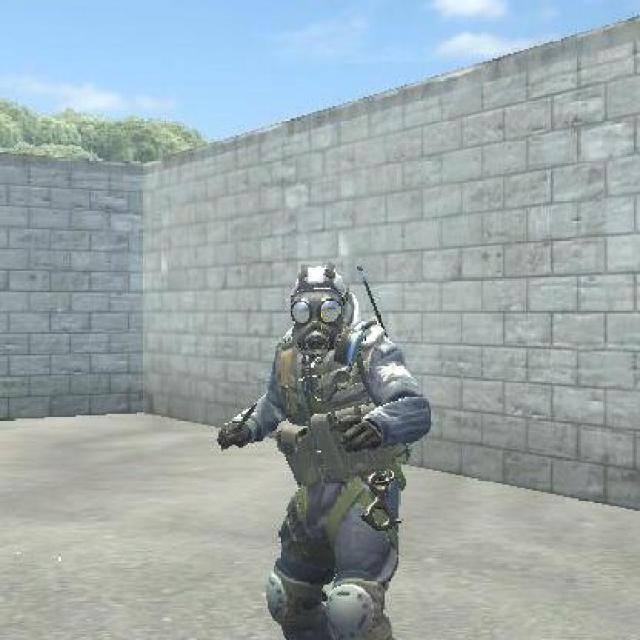CT-Body: (284, 266, 358, 354)
CT-Head: (222, 264, 436, 638)
